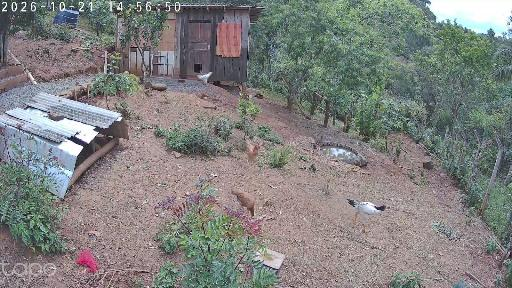galinha: (347, 198, 391, 236), (230, 187, 257, 217), (245, 139, 261, 170), (312, 135, 323, 150)
galo: (196, 70, 214, 88)
